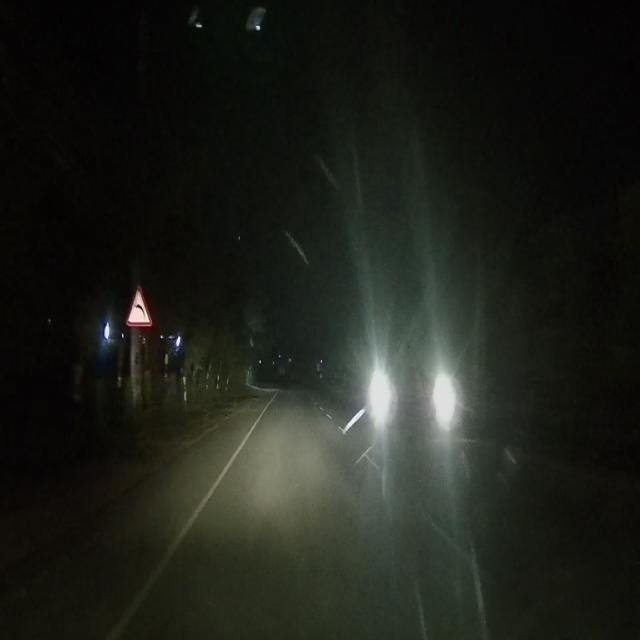left-hand-curve: (128, 289, 154, 332)
